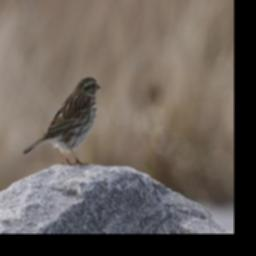Sparrow: (21, 72, 105, 167)
